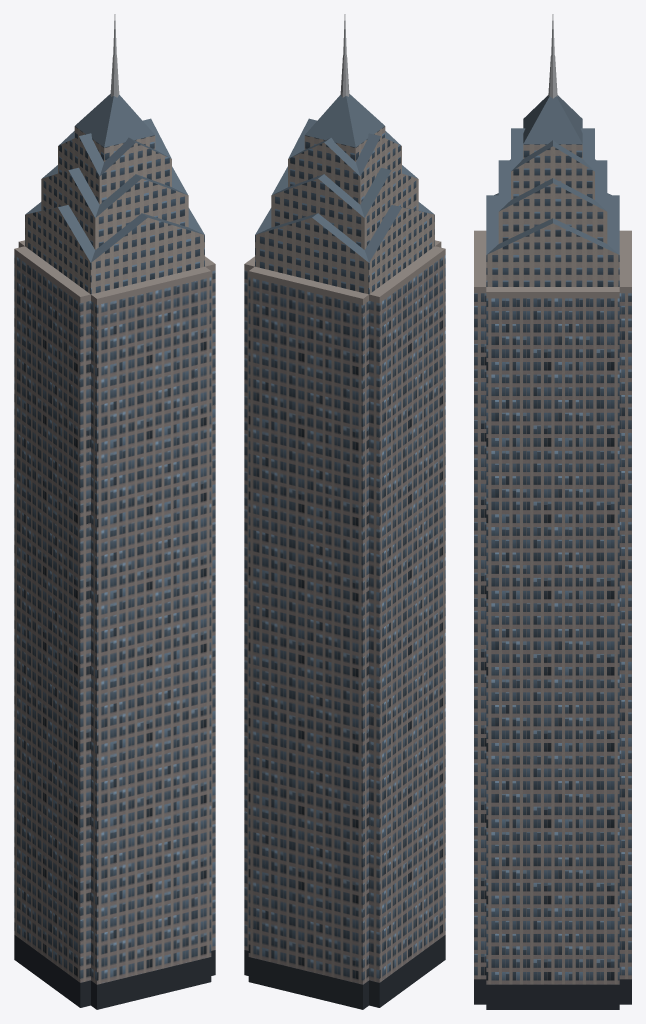
The model's file is two_prudential.glb.
3 renders of one model, left to right at view 1: azimuth 30°, elevation 25°; view 2: azimuth 150°, elevation 25°; view 3: azimuth 270°, elevation 25°, orthographic.
Visible parts, largest first — view 1: two_prudential; view 2: two_prudential; view 3: two_prudential.
Part boxes in pixels (x1,y1,x2,y2): two_prudential: [14, 14, 215, 1009]; two_prudential: [244, 14, 445, 1009]; two_prudential: [474, 14, 631, 1009].
Size of the model in its own units: 45 by 303 by 45.
3 materials, 3 textured.
